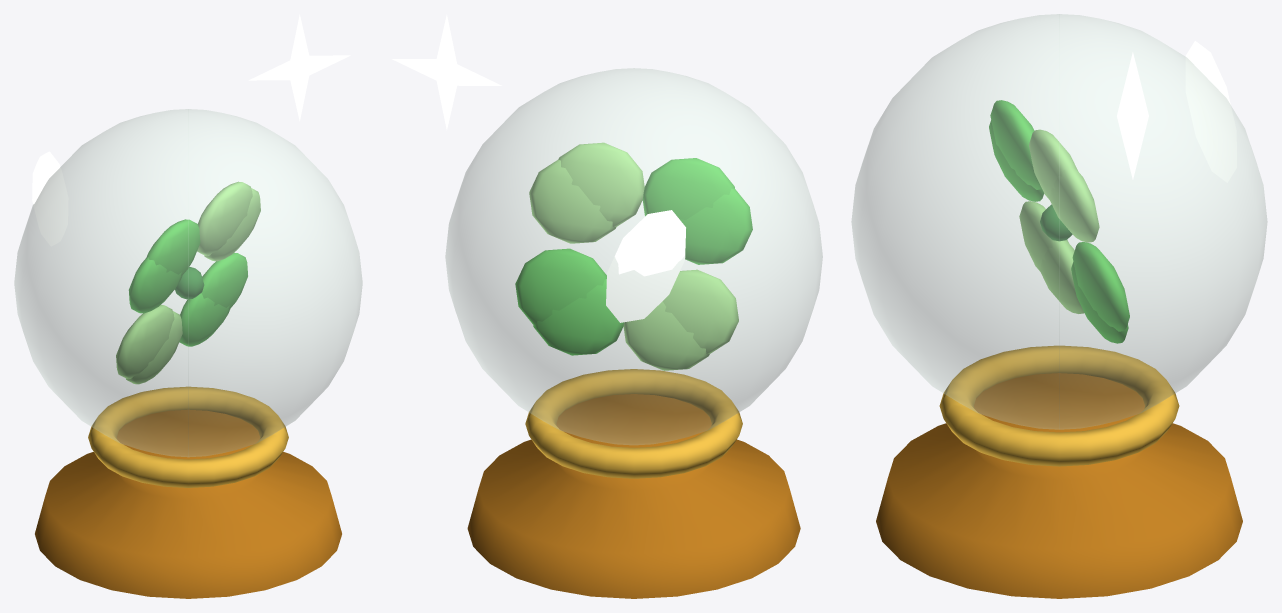
Rendered from PassLucky.glb.
3 views of the same model, side by side, from view 1: azimuth 30°, elevation 25°; view 2: azimuth 150°, elevation 25°; view 3: azimuth 270°, elevation 25° (orthographic). The views are drawn at different scales.
Parts seen in each view (by area): view 1: Glass, Body, Glow; view 2: Glass, Body, Glow; view 3: Glass, Body, Glow.
Part boxes in pixels (x1=…): Glass: x1=14, y1=109, x2=362, y2=456; Body: x1=35, y1=181, x2=341, y2=598; Glow: x1=32, y1=14, x2=350, y2=246; Glass: x1=445, y1=68, x2=822, y2=444; Body: x1=467, y1=142, x2=800, y2=598; Glow: x1=392, y1=14, x2=685, y2=322; Glass: x1=851, y1=14, x2=1267, y2=429; Body: x1=876, y1=100, x2=1242, y2=598; Glow: x1=1117, y1=41, x2=1236, y2=182.
Size of the model in its own units: 1.94 by 2.49 by 1.7.
3 materials, 1 textured.
